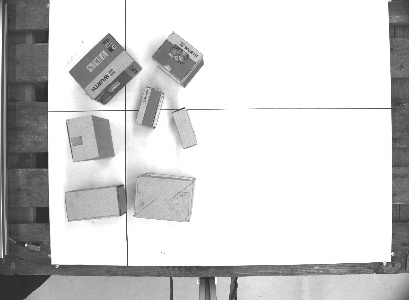b1: (169, 106, 199, 152)
b2: (62, 181, 128, 224)
b3: (132, 84, 166, 129)
b4: (65, 33, 143, 105)
b5: (130, 169, 196, 222)
b6: (62, 112, 115, 163)
b7: (148, 28, 205, 88)
